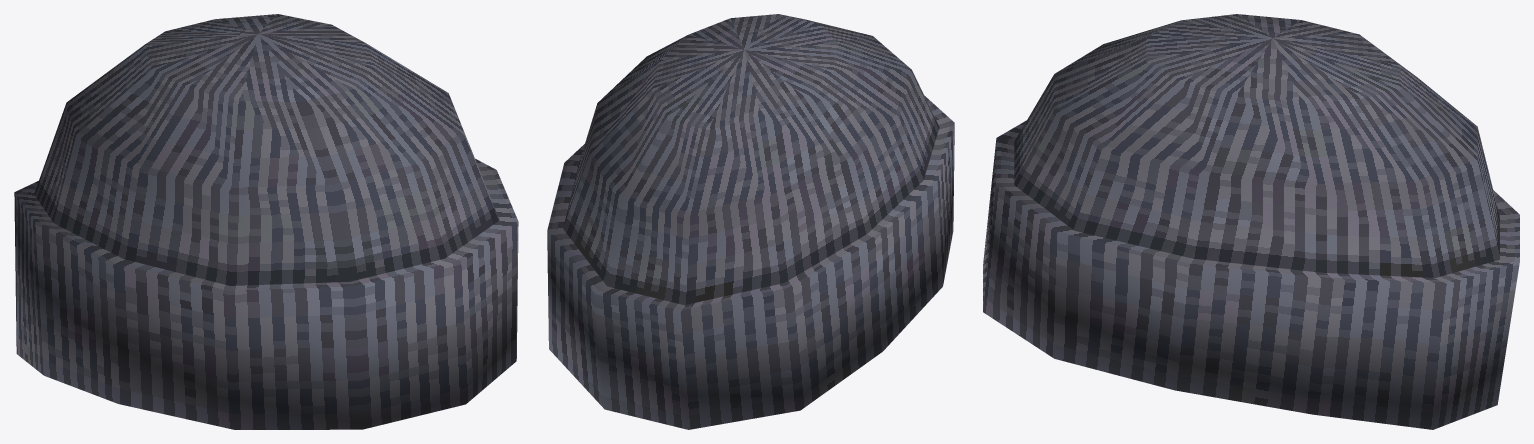
The model's file is UK_WoollyHat.glb.
The picture shows the model from 3 angles, left to right: view 1: azimuth 30°, elevation 25°; view 2: azimuth 150°, elevation 25°; view 3: azimuth 270°, elevation 25°; orthographic projection. The views are drawn at different scales.
Visible parts, largest first — view 1: UK_WOOLLYHAT; view 2: UK_WOOLLYHAT; view 3: UK_WOOLLYHAT.
Boxes of the visible parts, left/top/right/bottom form: UK_WOOLLYHAT: left=14, top=14, right=518, bottom=429; UK_WOOLLYHAT: left=547, top=14, right=954, bottom=429; UK_WOOLLYHAT: left=983, top=14, right=1519, bottom=429.
Size of the model in its own units: 0.186 by 0.17 by 0.241.
Materials: 1 (1 with a texture image).
